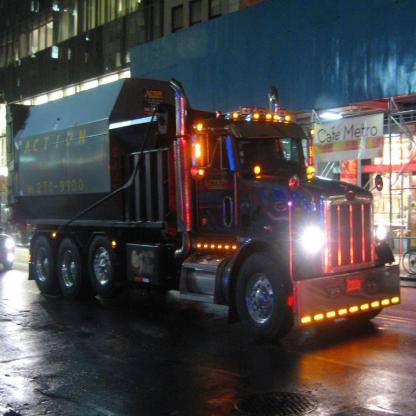Car: (1, 228, 15, 270)
